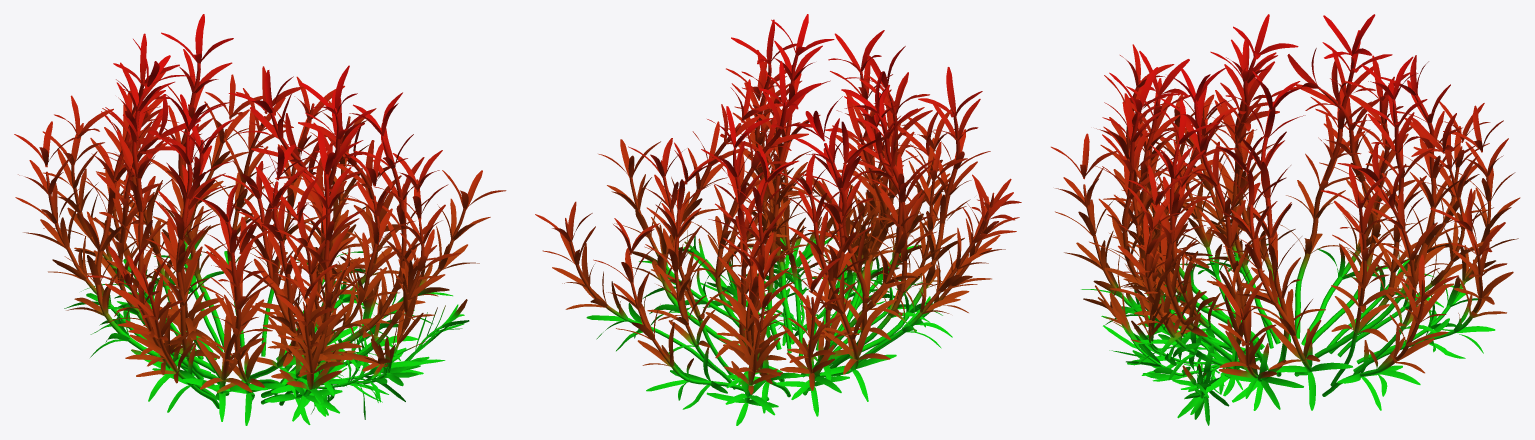
File: Var8_LOD0.fbx
3 renders of one model, left to right at view 1: azimuth 30°, elevation 25°; view 2: azimuth 150°, elevation 25°; view 3: azimuth 270°, elevation 25°, orthographic. The views are drawn at different scales.
Visible parts, largest first — view 1: _xg88_Var8_LOD0; view 2: _xg88_Var8_LOD0; view 3: _xg88_Var8_LOD0.
Boxes of the visible parts, <box> form: _xg88_Var8_LOD0: <box>14,14,506,425</box>; _xg88_Var8_LOD0: <box>535,14,1021,425</box>; _xg88_Var8_LOD0: <box>1051,14,1520,425</box>.
Bounding box in the file's own units: 37.26 × 29.72 × 37.06.
